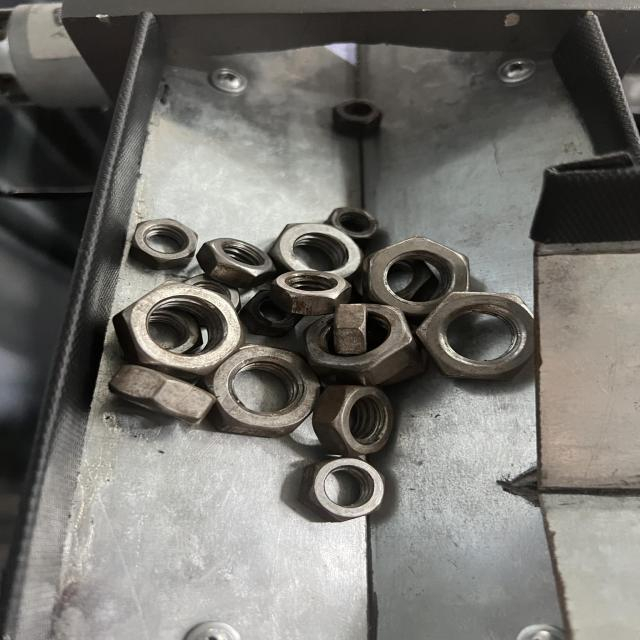nut: (113, 280, 243, 374), (417, 291, 539, 380), (301, 455, 387, 522), (130, 218, 198, 270)
